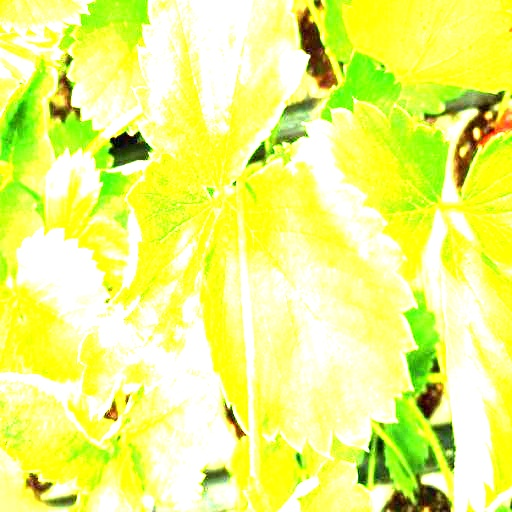Powdery Mildew Leaf: (76, 153, 218, 423), (279, 458, 374, 511)
